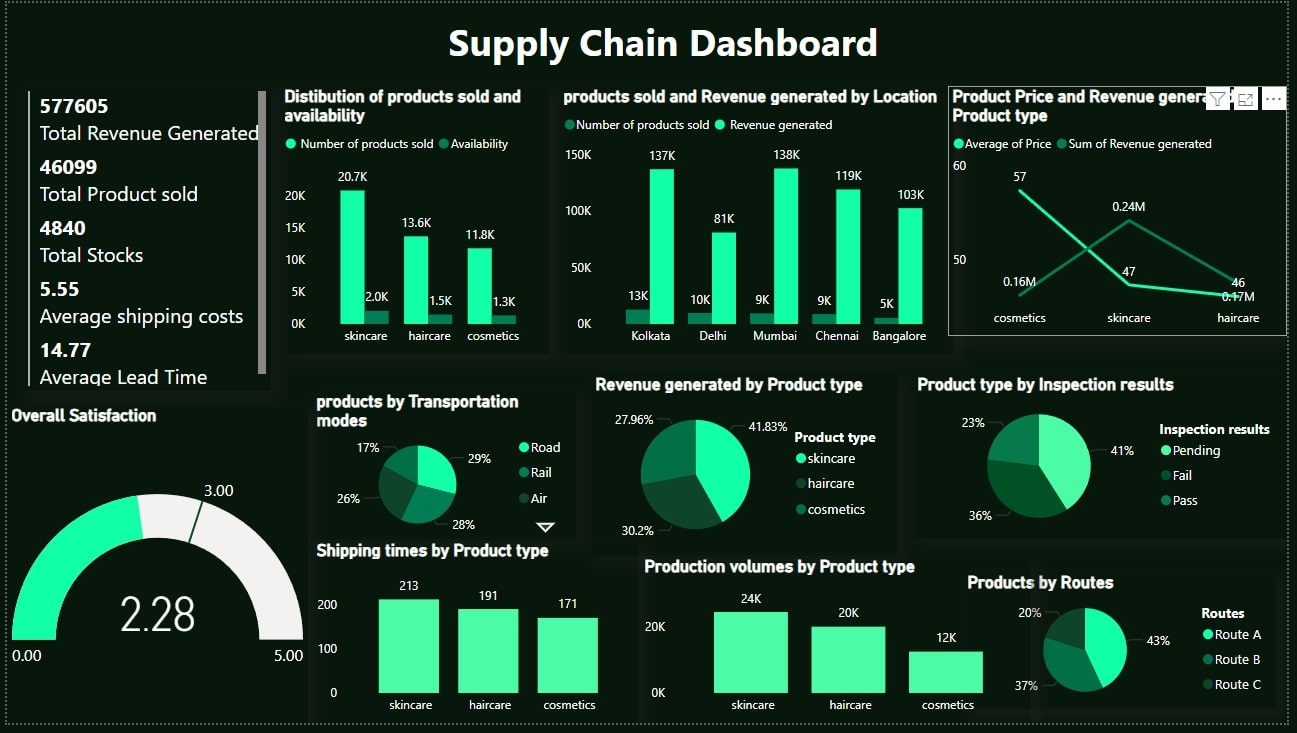

What the dashboard file says about the page in this screenshot:
{"tool":"powerbi","page":{"name":"Page 1","canvas":[1280,720],"ordinal":0},"visuals":[{"type":"multiRowCard","fields":{"Values":["supply_chain_data.Total Revenue Generated","supply_chain_data.Total Product sold","supply_chain_data.Total Stocks","supply_chain_data.Average shipping costs","supply_chain_data.Average Lead Time"]},"box":[16.3,82.6,247.7,305.8],"z":0},{"type":"clusteredColumnChart","title":"Distibution of products sold and availability","fields":{"Category":["supply_chain_data.Product type"],"Y":["Sum(supply_chain_data.Number of products sold)","Sum(supply_chain_data.Availability)"]},"box":[273.3,82.6,268.6,268.6],"z":1000},{"type":"clusteredColumnChart","title":" products sold and  Revenue generated by Location","fields":{"Category":["supply_chain_data.Location"],"Y":["Sum(supply_chain_data.Number of products sold)","Sum(supply_chain_data.Revenue generated)"]},"box":[552.3,82.6,394.2,268.6],"z":2000},{"type":"pieChart","title":"products by Transportation modes","fields":{"Y":["CountNonNull(supply_chain_data.SKU)"],"Category":["supply_chain_data.Transportation modes"]},"box":[304.7,388.4,264,148.8],"z":3000},{"type":"pieChart","title":" Revenue generated by Product type","fields":{"Category":["supply_chain_data.Product type"],"Y":["Sum(supply_chain_data.Revenue generated)"]},"box":[583.7,370.9,307,182.6],"z":4000},{"type":"pieChart","title":"Products by Routes","fields":{"Y":["CountNonNull(supply_chain_data.SKU)"],"Category":["supply_chain_data.Routes"]},"box":[955.8,568.6,312.8,137.2],"z":5000},{"type":"gauge","title":"Overall Satisfaction","fields":{"Y":["Avg(supply_chain_data.Defect rates)"],"MinValue":["supply_chain_data.Minimum value"],"MaxValue":["supply_chain_data.maximun Value"],"TargetValue":["supply_chain_data.Target value"]},"box":[0,402.3,301.2,317.4],"z":6000},{"type":"lineChart","title":"Product Price and Revenue generated by Product type","fields":{"Category":["supply_chain_data.Product type"],"Y":["Avg(supply_chain_data.Price)"],"Y2":["Sum(supply_chain_data.Revenue generated)"]},"box":[940.7,82.6,339.5,250],"z":7000},{"type":"columnChart","title":"Shipping times by Product type","fields":{"Category":["supply_chain_data.Product type"],"Y":["Sum(supply_chain_data.Shipping times)"]},"box":[304.7,537.2,326.7,182.6],"z":8000},{"type":"clusteredColumnChart","title":"Production volumes by Product type","fields":{"Category":["supply_chain_data.Product type"],"Y":["Sum(supply_chain_data.Production volumes)"]},"box":[632.6,553.5,391.9,166.3],"z":9000},{"type":"pieChart","title":"Product type by Inspection results","fields":{"Category":["supply_chain_data.Inspection results"],"Y":["CountNonNull(supply_chain_data.Product type)"]},"box":[905.8,370.9,374.4,165.1],"z":10000},{"type":"textbox","box":[437.2,8.1,453.5,74.4],"z":11000}]}

Visuals, with their boxes in screenshot pixels (x1, y1, x2, y2), scaled from the page's 1280x720 canvas onto the 1297x733 screenshot:
multiRowCard - supply_chain_data.Total Revenue Generated x supply_chain_data.Total Product sold: <region>17, 84, 268, 395</region>
"Distibution of products sold and availability" clusteredColumnChart: <region>277, 84, 549, 358</region>
" products sold and  Revenue generated by Location" clusteredColumnChart: <region>560, 84, 959, 358</region>
"products by Transportation modes" pieChart: <region>309, 395, 576, 547</region>
" Revenue generated by Product type" pieChart: <region>591, 378, 903, 563</region>
"Products by Routes" pieChart: <region>968, 579, 1285, 719</region>
"Overall Satisfaction" gauge: <region>0, 410, 305, 732</region>
"Product Price and Revenue generated by Product type" lineChart: <region>953, 84, 1296, 339</region>
"Shipping times by Product type" columnChart: <region>309, 547, 640, 732</region>
"Production volumes by Product type" clusteredColumnChart: <region>641, 563, 1038, 732</region>
"Product type by Inspection results" pieChart: <region>918, 378, 1296, 546</region>
textbox: <region>443, 8, 903, 84</region>
